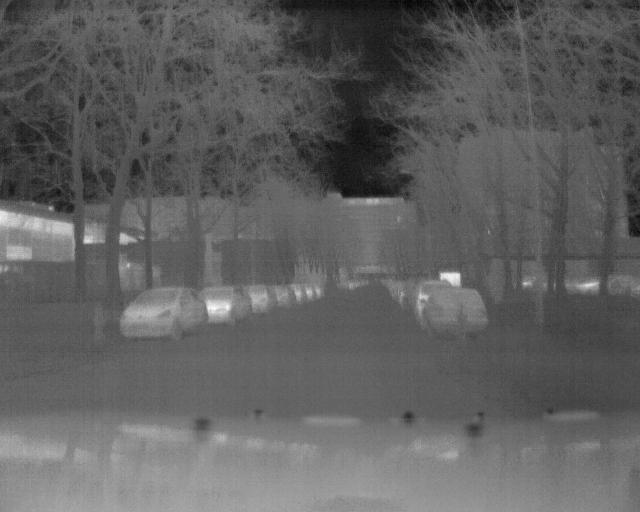car: (119, 285, 209, 342), (420, 288, 491, 341), (190, 285, 254, 324), (241, 286, 275, 314), (271, 287, 301, 309)
